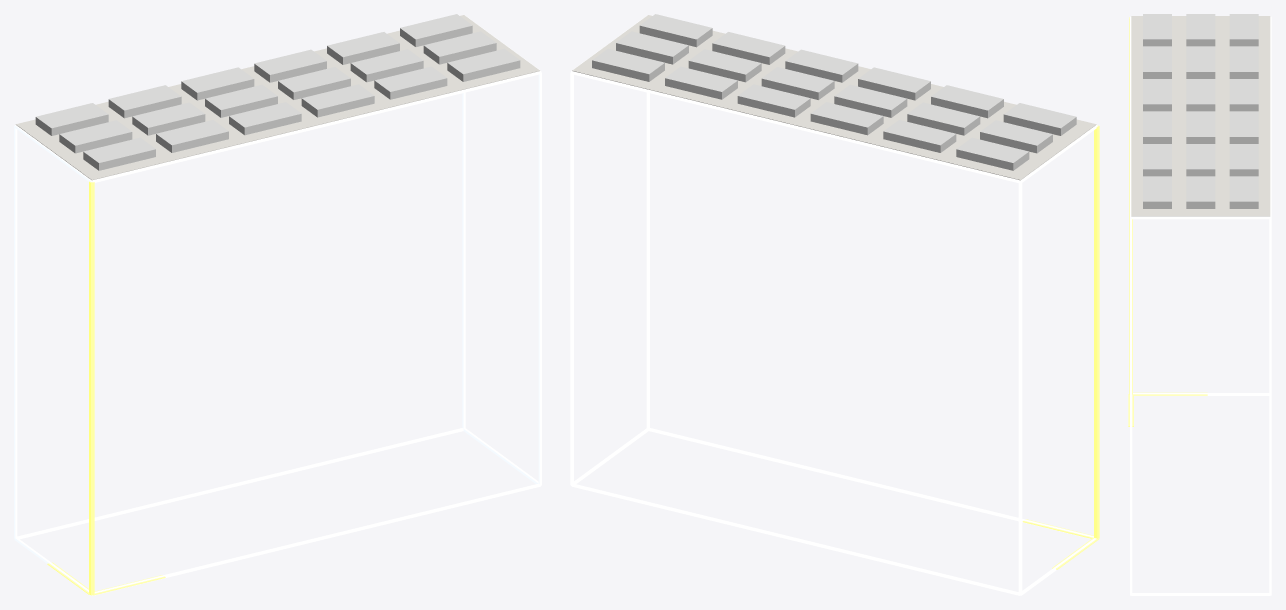
The model's file is nur_isik.glb.
3 renders of one model, left to right at view 1: azimuth 30°, elevation 25°; view 2: azimuth 150°, elevation 25°; view 3: azimuth 270°, elevation 25°, orthographic. The views are drawn at different scales.
Parts seen in each view (by area): view 1: ETNA_26_beyaz (×18), ar_hayalet, hayalet_tavan, ar_isaret_altin; view 2: ETNA_26_beyaz (×18), ar_hayalet, hayalet_tavan, ar_isaret_altin; view 3: ETNA_26_beyaz (×18), hayalet_tavan, ar_hayalet, ar_isaret_altin.
Boxes of the visible parts, bbox=[...] form: ETNA_26_beyaz (×18): bbox=[35, 14, 520, 170]; ar_hayalet: bbox=[14, 15, 541, 595]; hayalet_tavan: bbox=[16, 15, 539, 180]; ar_isaret_altin: bbox=[47, 181, 165, 595]; ETNA_26_beyaz (×18): bbox=[592, 14, 1076, 170]; ar_hayalet: bbox=[570, 15, 1097, 595]; hayalet_tavan: bbox=[572, 15, 1096, 180]; ar_isaret_altin: bbox=[1022, 125, 1099, 569]; ETNA_26_beyaz (×18): bbox=[1143, 14, 1258, 208]; hayalet_tavan: bbox=[1131, 16, 1270, 216]; ar_hayalet: bbox=[1130, 16, 1271, 595]; ar_isaret_altin: bbox=[1128, 17, 1207, 426].
Size of the model in its own units: 2.5 by 2.24 by 0.751.
